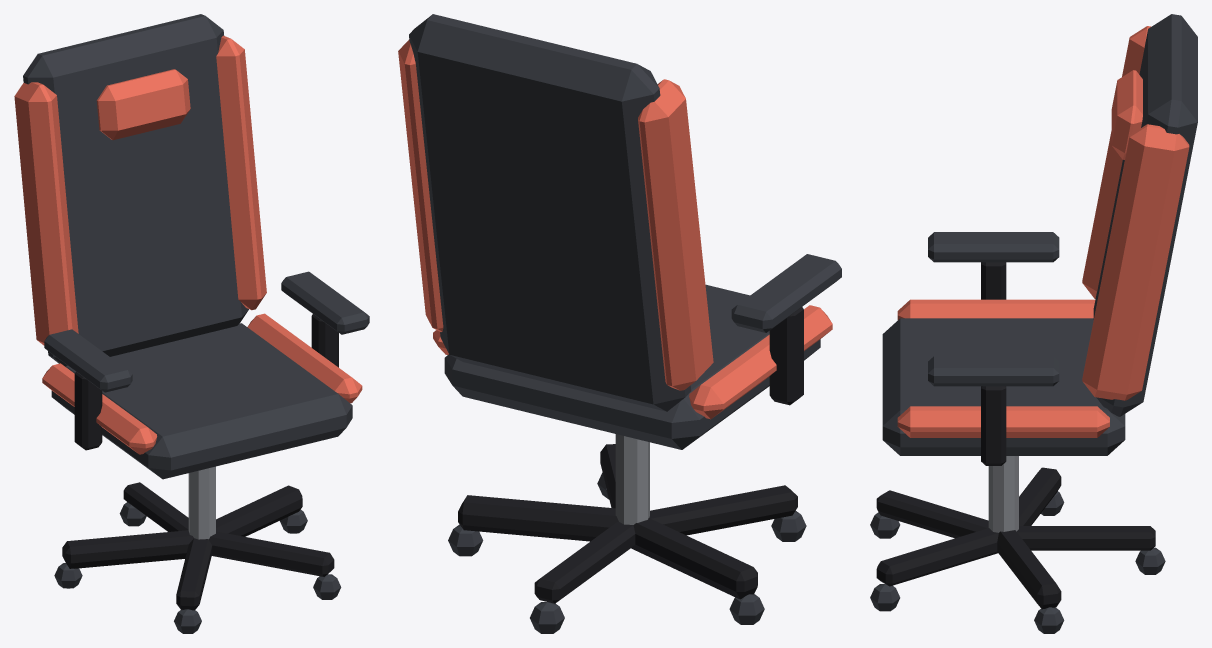
The model's file is gaming_chair.glb.
3 renders of one model, left to right at view 1: azimuth 30°, elevation 25°; view 2: azimuth 150°, elevation 25°; view 3: azimuth 270°, elevation 25°, orthographic. The views are drawn at different scales.
Visible parts, largest first — view 1: part_seat, gaming_chair; view 2: part_seat, gaming_chair; view 3: part_seat, gaming_chair.
Part boxes in pixels (x1=…): part_seat: x1=14, y1=14, x2=369, y2=479; gaming_chair: x1=54, y1=466, x2=341, y2=633; part_seat: x1=398, y1=14, x2=841, y2=449; gaming_chair: x1=448, y1=434, x2=806, y2=633; part_seat: x1=882, y1=14, x2=1197, y2=465; gaming_chair: x1=870, y1=456, x2=1165, y2=633.
Size of the model in its own units: 0.66 by 1.13 by 0.6485.
